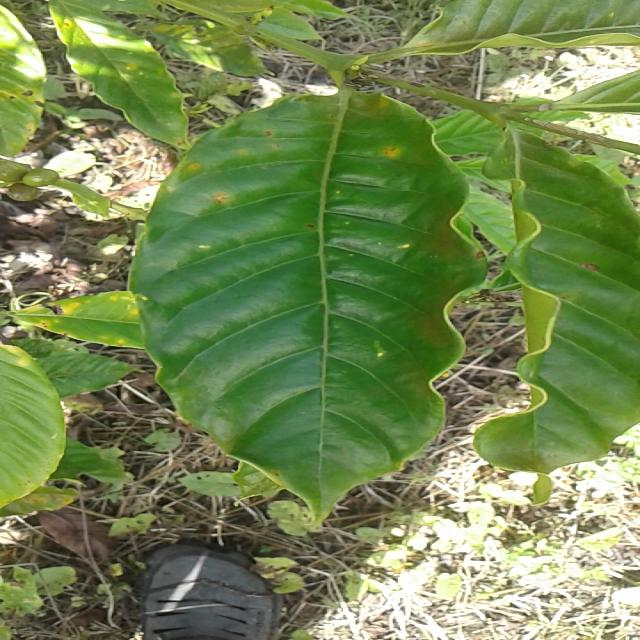Enfermedad-Roya: (128, 92, 492, 522)
